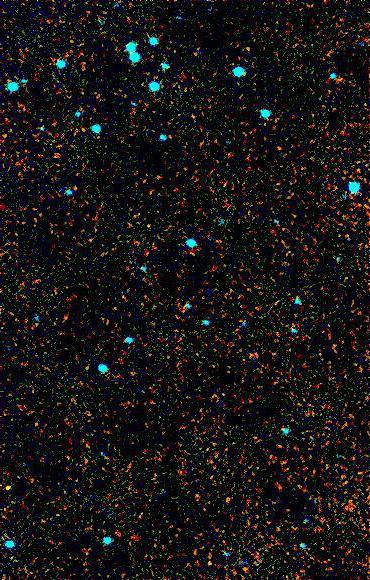star: (0, 473, 26, 503)
